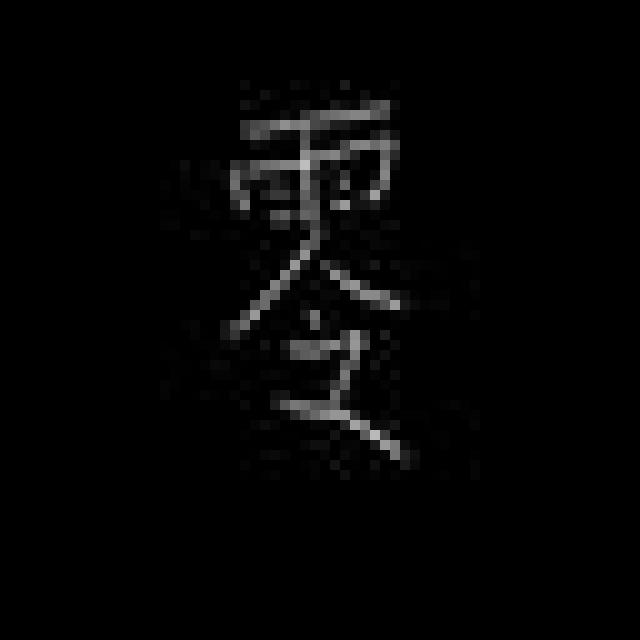0 -zero-: (206, 96, 423, 490)
